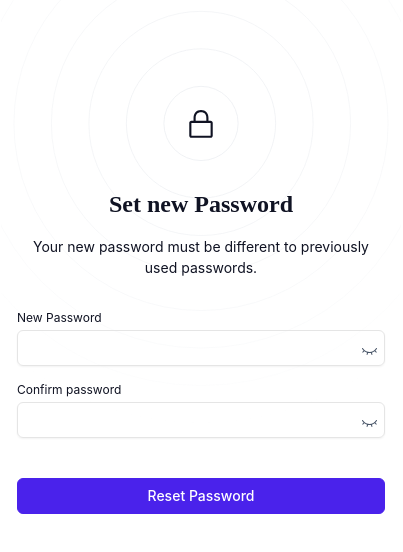
Test case: New password page › should show error when confirm password is not equal to new password
This screenshot has width=403, height=552.
In the 1st password field named "newPassword": (201, 348) [17, 330, 385, 366], type "@Vobb123"
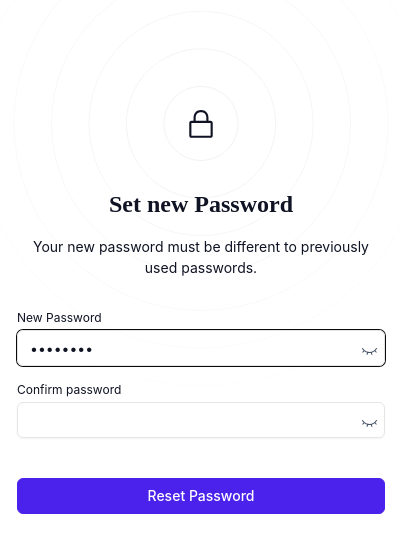
In the password field named "confirmPassword" below "Confirm password": (201, 420) [17, 402, 385, 438], type "obb123"
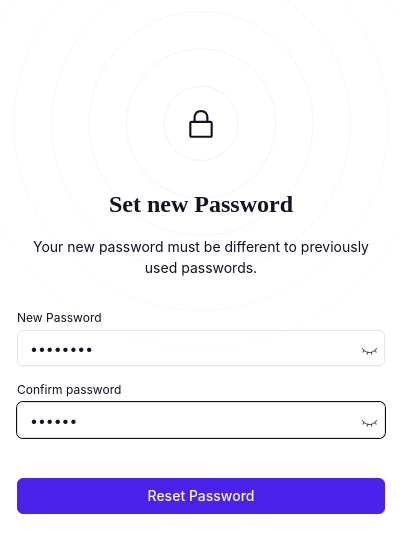
Click the button with test id "reset-btn": (201, 496) [17, 478, 385, 514]
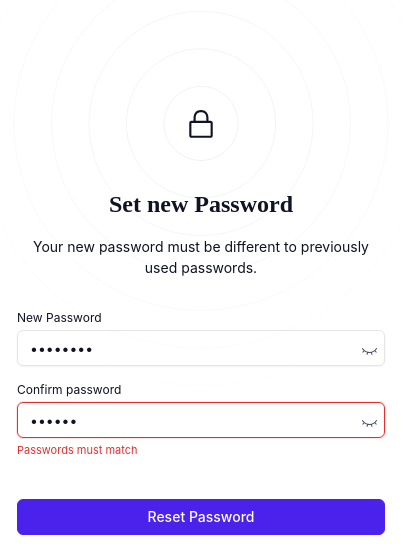
Expected: the text "Passwords must match" is shown, [17, 443, 138, 457]
